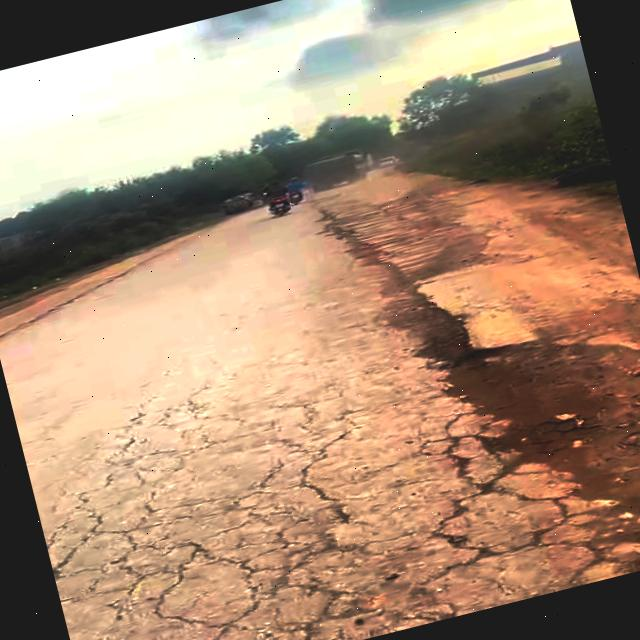pothole: (419, 307, 640, 513)
